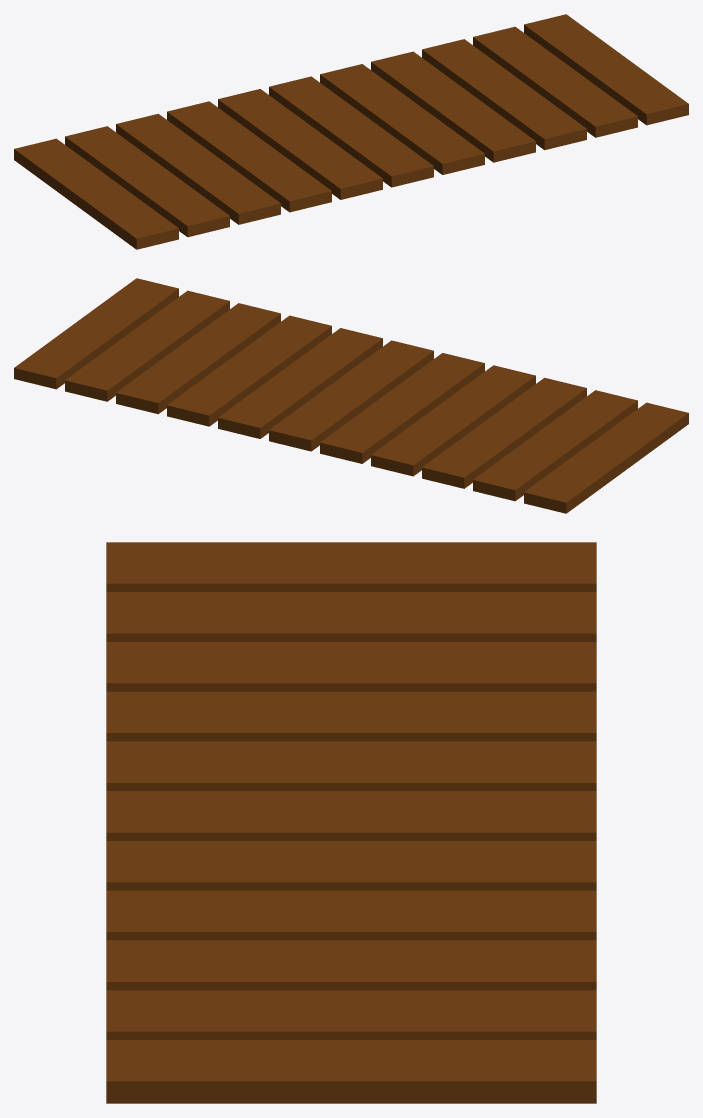
The model's file is IsometricTile_Light_Bridge.fbx.
3 renders of one model, top to bottom at view 1: azimuth 30°, elevation 25°; view 2: azimuth 150°, elevation 25°; view 3: azimuth 270°, elevation 25°, orthographic. The views are drawn at different scales.
Parts seen in each view (by area): view 1: Cube.016; view 2: Cube.016; view 3: Cube.016.
Part boxes in pixels (x1=…): Cube.016: x1=14, y1=14, x2=688, y2=249; Cube.016: x1=14, y1=278, x2=688, y2=513; Cube.016: x1=106, y1=542, x2=596, y2=1103.
Size of the model in its own units: 1 by 2.6 by 0.05.
